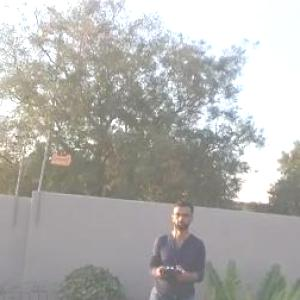follow: (138, 189, 208, 299)
